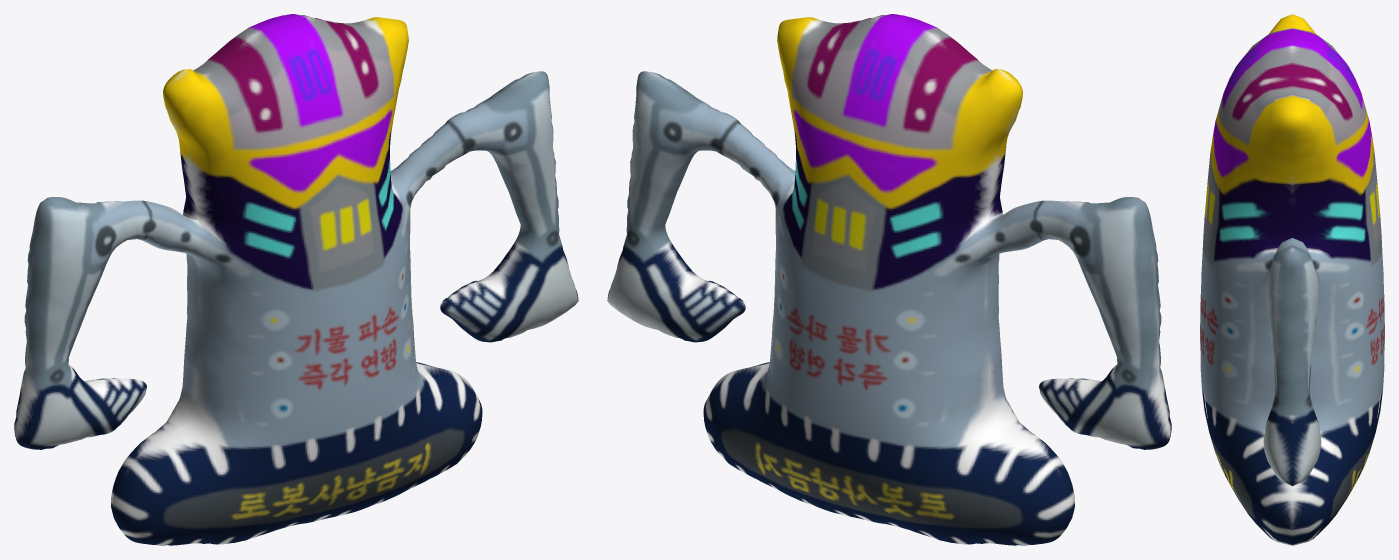
The model's file is bot_truck_small.glb.
3 views of the same model, side by side, from view 1: azimuth 30°, elevation 25°; view 2: azimuth 150°, elevation 25°; view 3: azimuth 270°, elevation 25° (orthographic). The views are drawn at different scales.
Parts seen in each view (by area): view 1: Mesh_0.003; view 2: Mesh_0.003; view 3: Mesh_0.003.
Part boxes in pixels (x1=…): Mesh_0.003: x1=14, y1=14, x2=578, y2=545; Mesh_0.003: x1=607, y1=14, x2=1171, y2=545; Mesh_0.003: x1=1200, y1=14, x2=1384, y2=545.
Size of the model in its own units: 15.07 by 12.88 by 4.71.
Materials: 1 (1 with a texture image).
